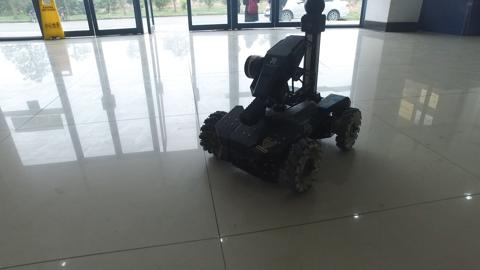car: (261, 1, 352, 24)
chariot: (197, 1, 368, 199)
